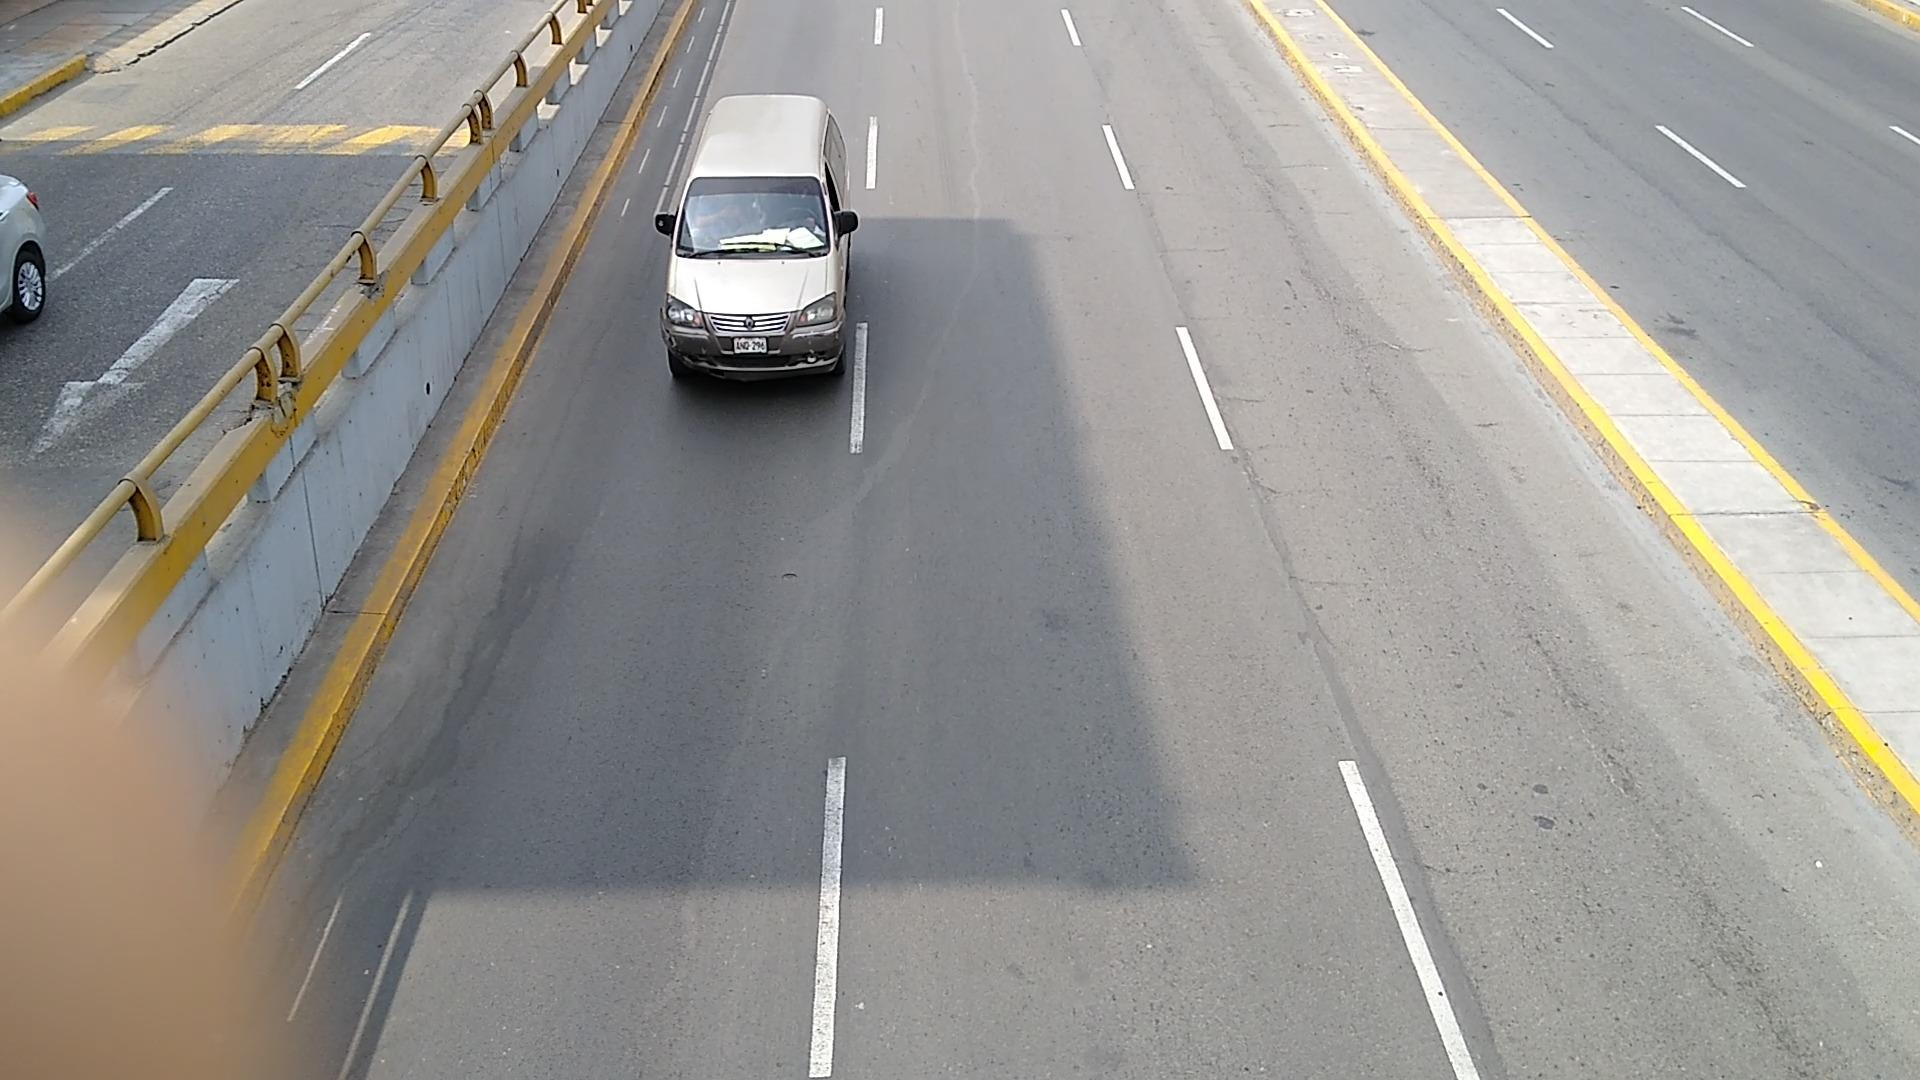car: (653, 94, 858, 378)
